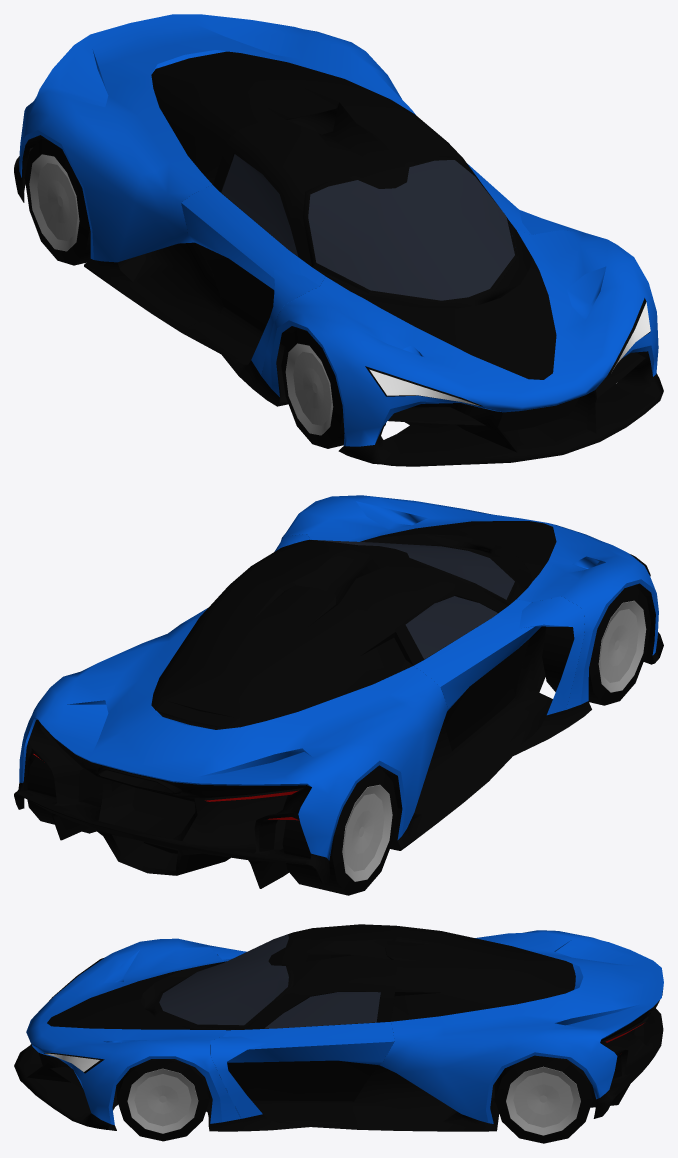
Rendered from car_zenvo.glb.
The picture shows the model from 3 angles, top to bottom: view 1: azimuth 30°, elevation 25°; view 2: azimuth 150°, elevation 25°; view 3: azimuth 270°, elevation 25°; orthographic projection. The views are drawn at different scales.
Visible parts, largest first — view 1: paint, black_2, glass, rim_BL, rim_FL, tire_BL, tire_FL, lamp_f; view 2: black_2, paint, glass, tire_BL, tire_FL, rim_BL, rim_FL, tire_BR; view 3: black_2, paint, glass, rim_BR, rim_FR, tire_BR, tire_FR, lamp_f.
Boxes of the visible parts, left/top/right/bottom form: paint: left=19, top=14, right=658, bottom=446; black_2: left=14, top=51, right=663, bottom=466; glass: left=221, top=154, right=514, bottom=300; rim_BL: left=29, top=154, right=79, bottom=251; rim_FL: left=285, top=343, right=333, bottom=435; tire_BL: left=24, top=137, right=90, bottom=265; tire_FL: left=281, top=328, right=385, bottom=448; lamp_f: left=369, top=302, right=650, bottom=405; black_2: left=14, top=521, right=663, bottom=888; paint: left=19, top=495, right=658, bottom=860; glass: left=314, top=540, right=514, bottom=659; tire_BL: left=282, top=767, right=397, bottom=895; tire_FL: left=542, top=585, right=650, bottom=705; rim_BL: left=342, top=784, right=392, bottom=881; rim_FL: left=598, top=600, right=646, bottom=692; tire_BR: left=27, top=757, right=102, bottom=833; black_2: left=14, top=924, right=663, bottom=1131; paint: left=26, top=930, right=663, bottom=1125; glass: left=159, top=934, right=380, bottom=1028; rim_BR: left=506, top=1066, right=580, bottom=1135; rim_FR: left=127, top=1068, right=198, bottom=1133; tire_BR: left=494, top=1055, right=593, bottom=1143; tire_FR: left=116, top=1059, right=209, bottom=1141; lamp_f: left=45, top=1053, right=99, bottom=1071.
Size of the model in its own units: 2.02 by 1.14 by 4.79.
